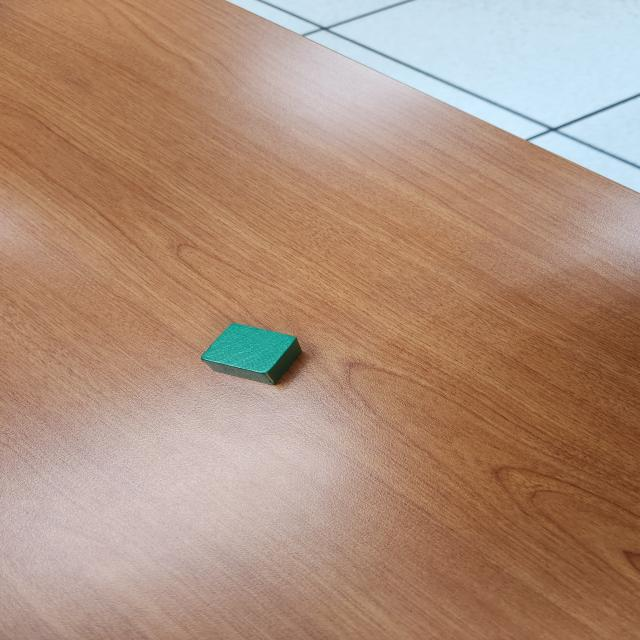green: (200, 322, 304, 385)
